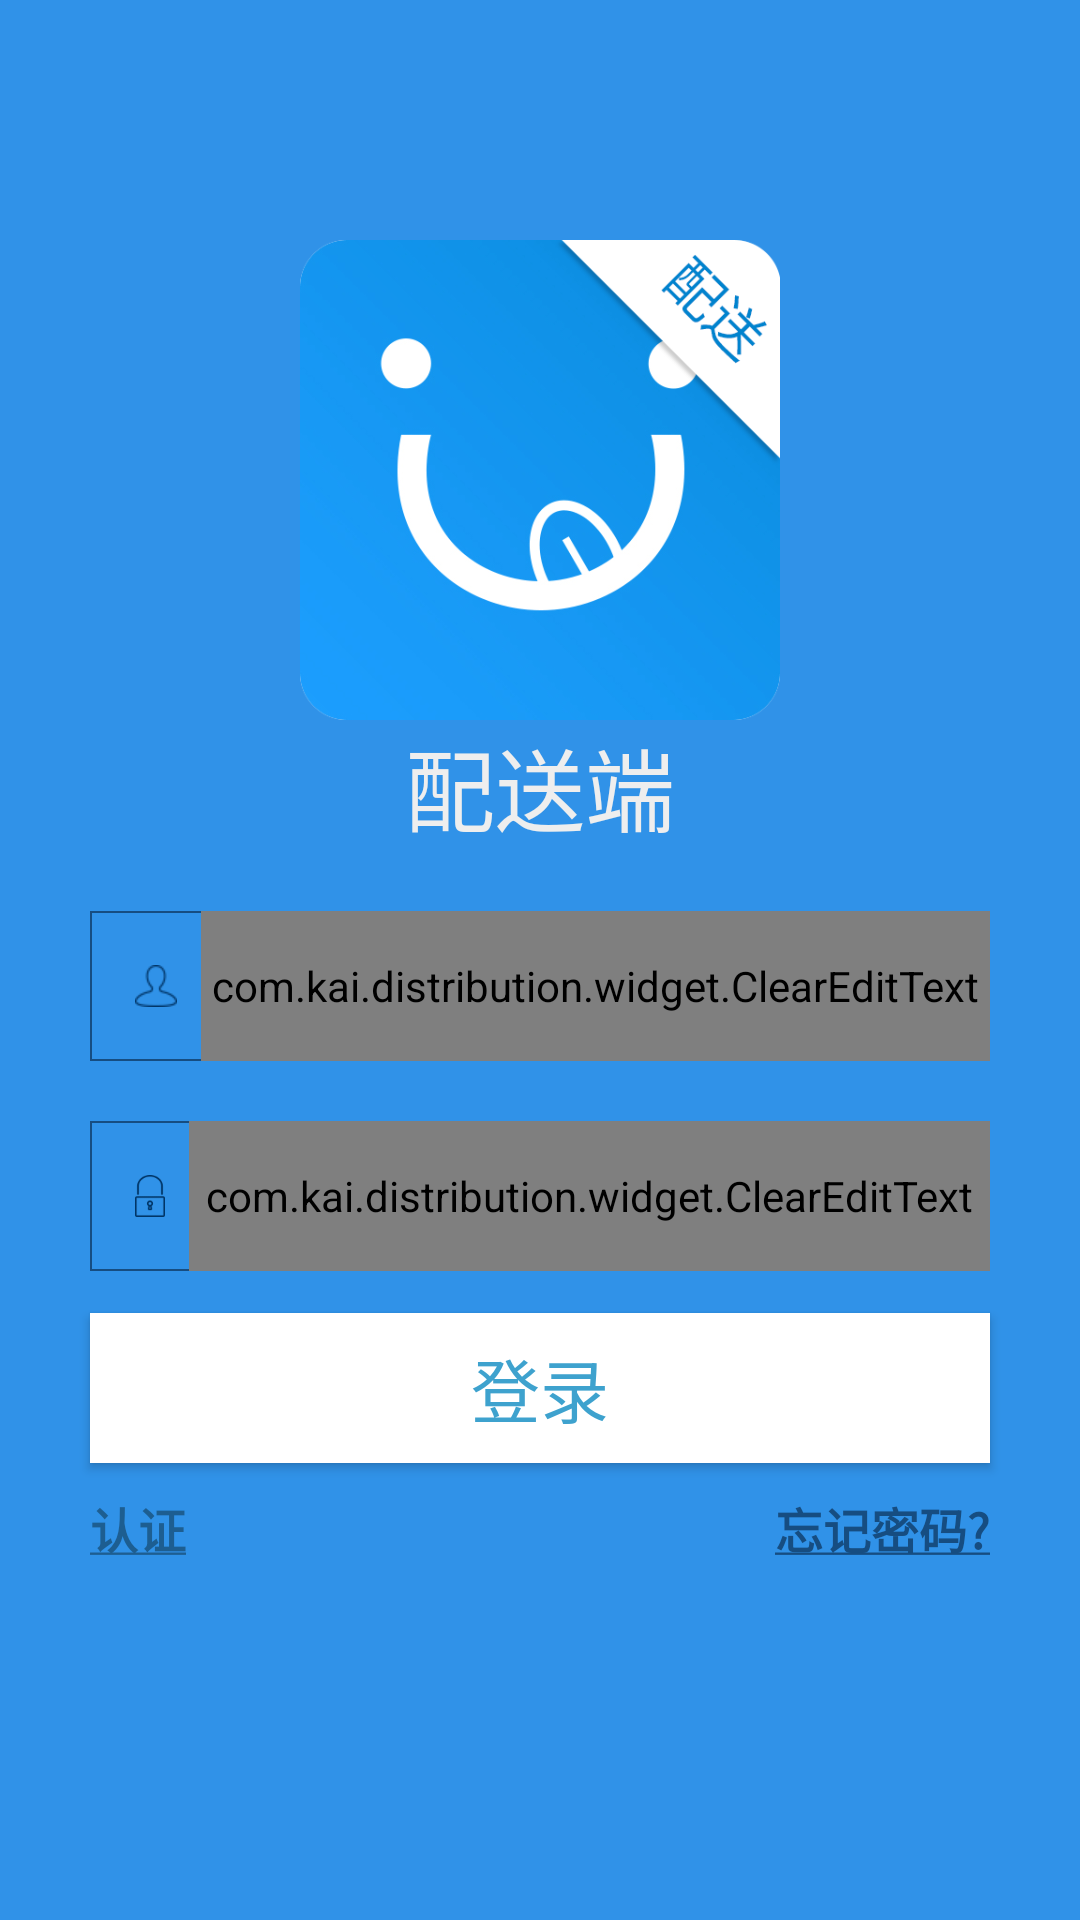

Where to tap for icons on this 1080 x 1920 app screen, as (x,y):
password: (150,1196)
